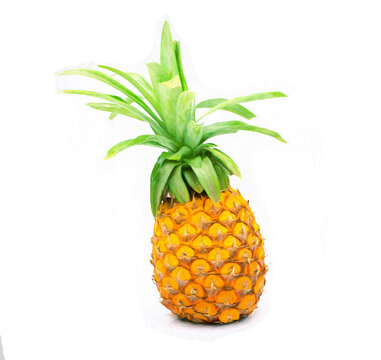Pineapple: (57, 23, 290, 326)
